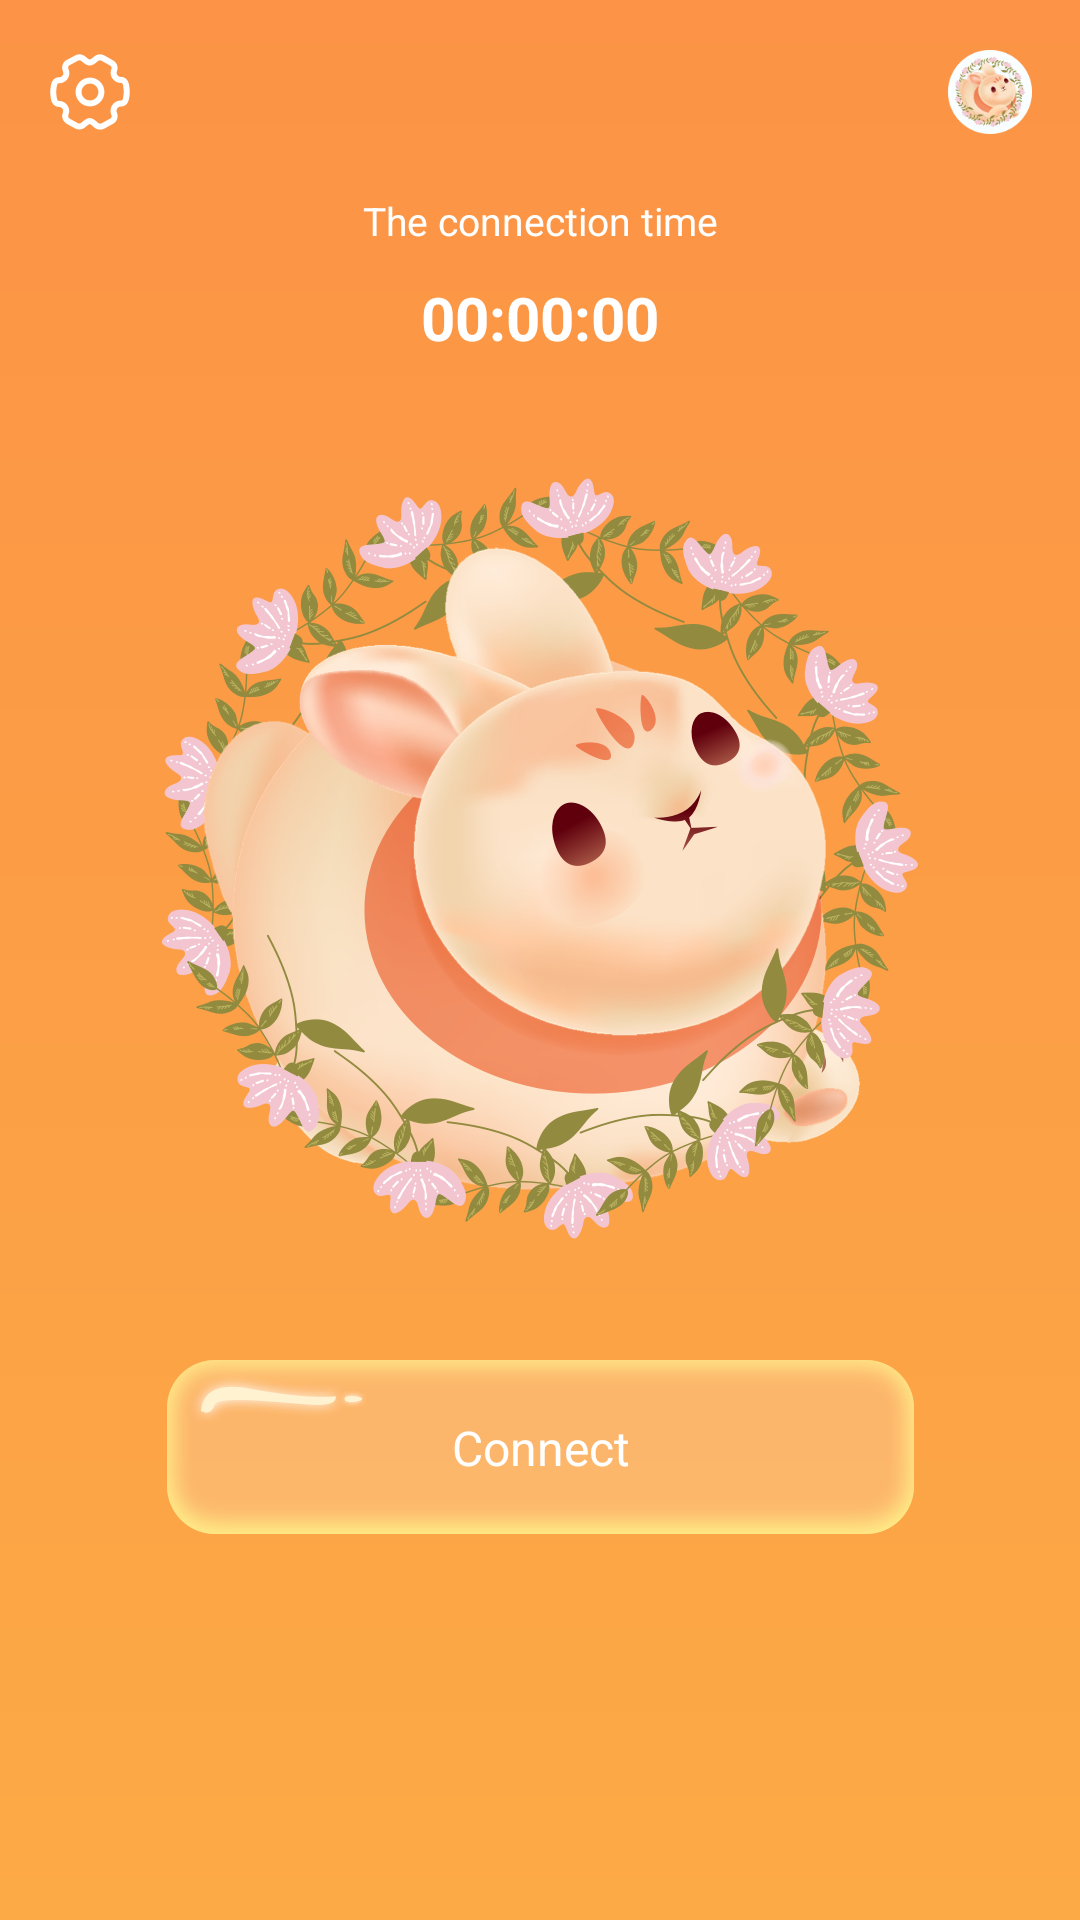

Named icons in this screenshot (1080*1920) and their bounding boxes, [x1,y1,x2,y2]:
set: [50,54,130,130]
